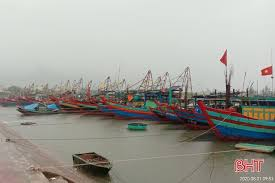tau_dansu: (204, 90, 275, 139), (168, 92, 228, 136), (149, 91, 202, 120), (73, 147, 114, 173), (19, 97, 70, 114)
